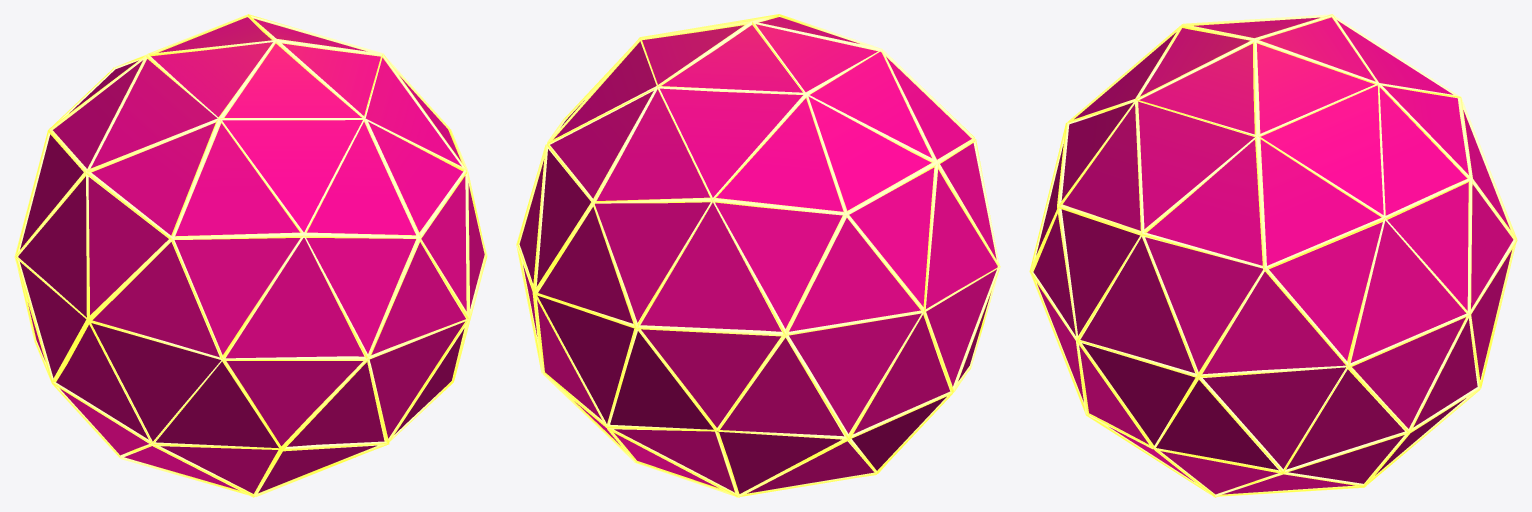
Rendered from gun_saber_cube.fbx.
The picture shows the model from 3 angles, left to right: view 1: azimuth 30°, elevation 25°; view 2: azimuth 150°, elevation 25°; view 3: azimuth 270°, elevation 25°; orthographic projection. The views are drawn at different scales.
Parts seen in each view (by area): view 1: Sphere.003; view 2: Sphere.003; view 3: Sphere.003.
Part boxes in pixels (box(x1,y1,x2,y2)): Sphere.003: box(14, 14, 487, 497); Sphere.003: box(516, 14, 1000, 497); Sphere.003: box(1029, 14, 1517, 497).
Bounding box in the file's own units: 191 × 200 × 196.
